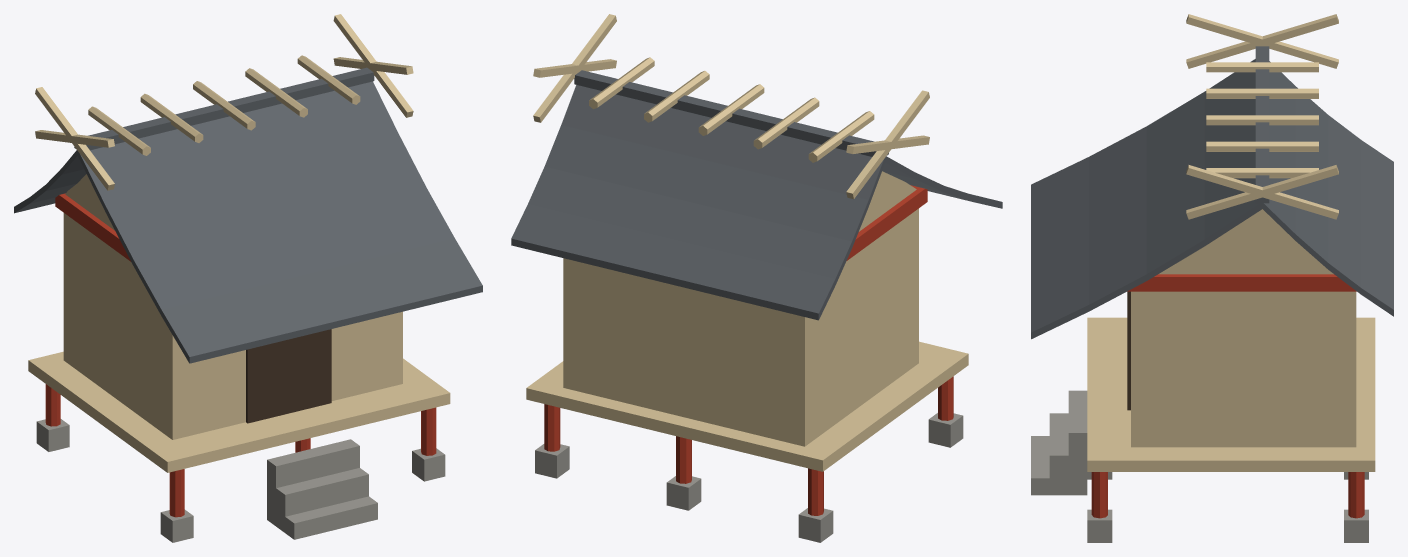
Rendered from honden.glb.
3 views of the same model, side by side, from view 1: azimuth 30°, elevation 25°; view 2: azimuth 150°, elevation 25°; view 3: azimuth 270°, elevation 25° (orthographic). The views are drawn at different scales.
Parts seen in each view (by area): view 1: honden; view 2: honden; view 3: honden.
Part boxes in pixels (box(x1,y1,x2,y2)): honden: box(14, 14, 482, 542); honden: box(511, 14, 1002, 542); honden: box(1031, 14, 1393, 542).
Size of the model in its own units: 5.82 by 6.76 by 5.8.
